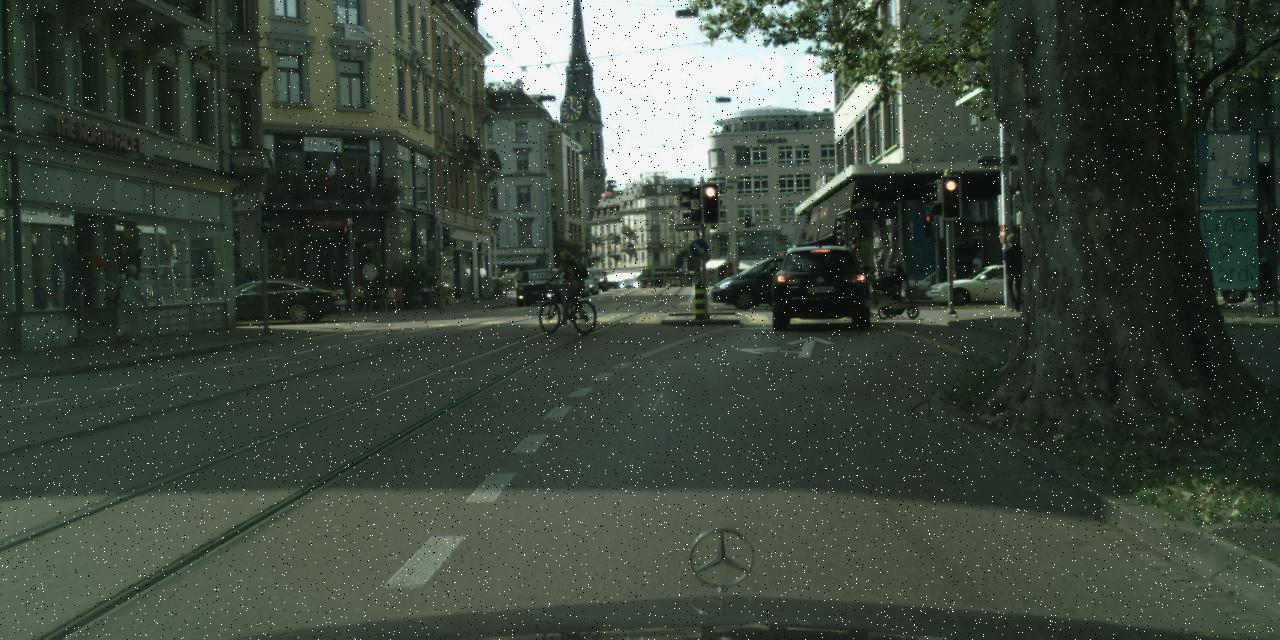ped: (113, 264, 145, 344), (998, 233, 1028, 309), (841, 244, 871, 316), (554, 250, 580, 317), (969, 252, 987, 298), (722, 262, 736, 294), (513, 267, 523, 294)
